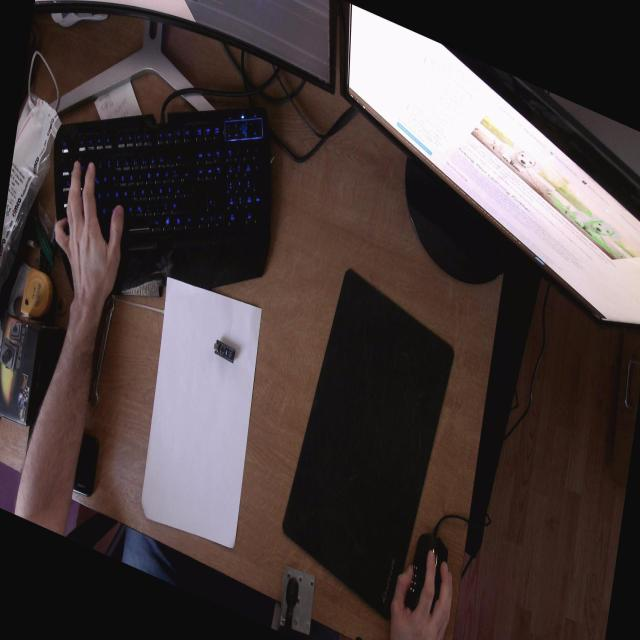keyboard-with-hands: (57, 110, 278, 296)
